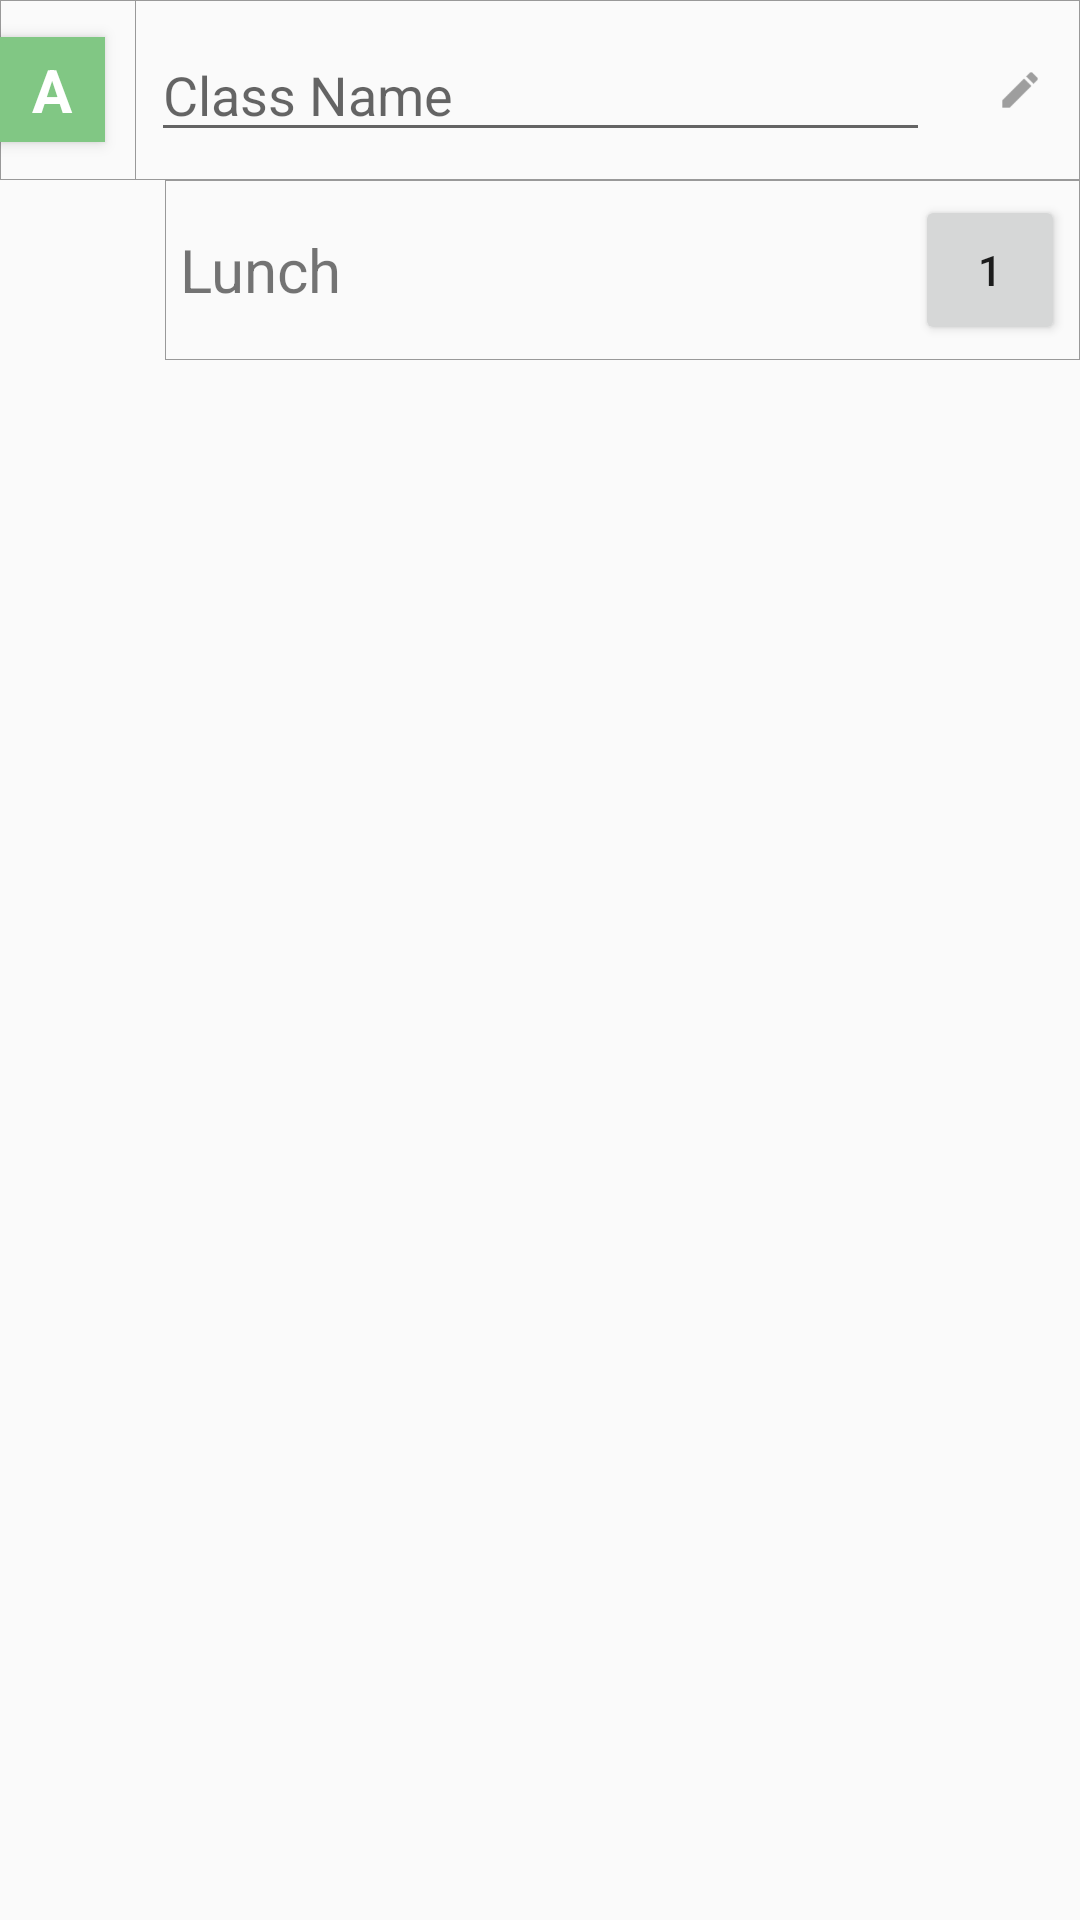

Named icons in this screenshot (1080px×1920px) and their bounding boxes, {"left": x1, "top": y1, "right": x2, "bottom": y2}:
edit days: {"left": 1002, "top": 72, "right": 1038, "bottom": 108}
